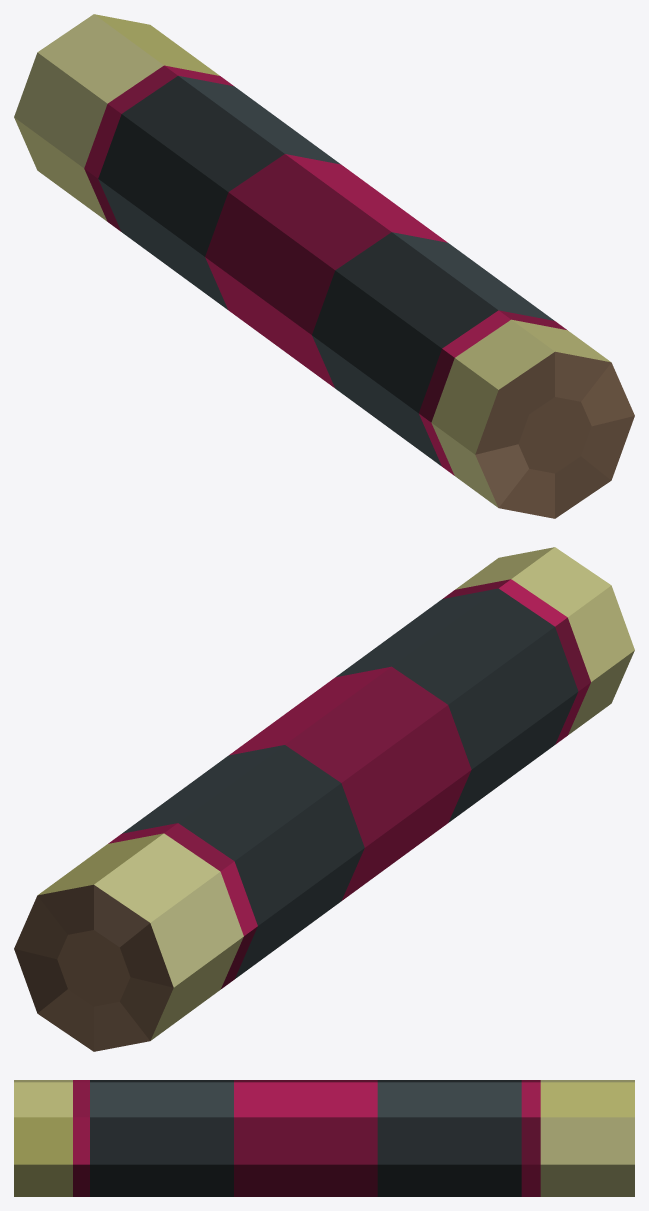
Rendered from Prop_TextileE.fbx.
3 renders of one model, top to bottom at view 1: azimuth 30°, elevation 25°; view 2: azimuth 150°, elevation 25°; view 3: azimuth 270°, elevation 25°, orthographic. The views are drawn at different scales.
Parts seen in each view (by area): view 1: Prop_TextileE; view 2: Prop_TextileE; view 3: Prop_TextileE.
Part boxes in pixels (x1,y1,x2,y2): Prop_TextileE: (14, 14, 634, 518); Prop_TextileE: (14, 547, 634, 1051); Prop_TextileE: (14, 1080, 634, 1196).
Size of the model in its own units: 20 by 20 by 100.
